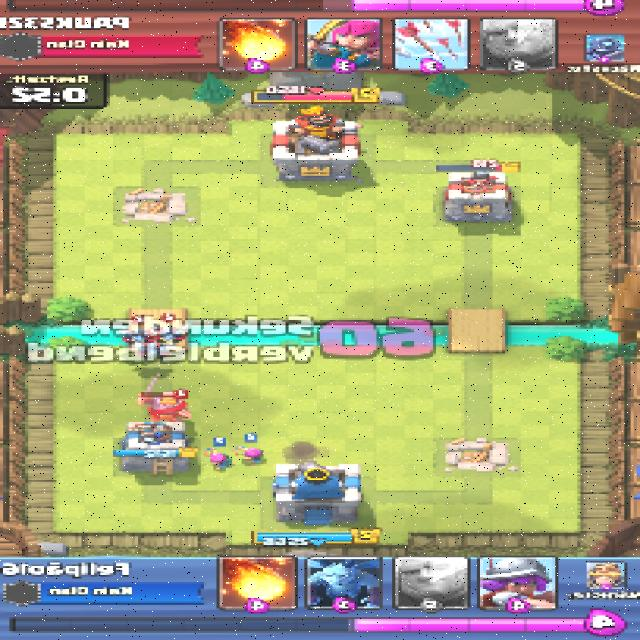Enemy-Knight: (134, 394, 193, 421)
Enemy-Minion: (159, 325, 191, 346), (118, 327, 154, 342), (132, 340, 159, 357)
Player-Archer: (205, 451, 238, 472), (238, 446, 265, 464)
